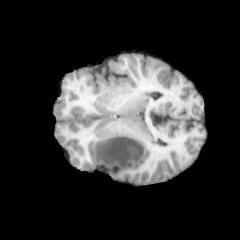glioma: (94, 136, 146, 169)
